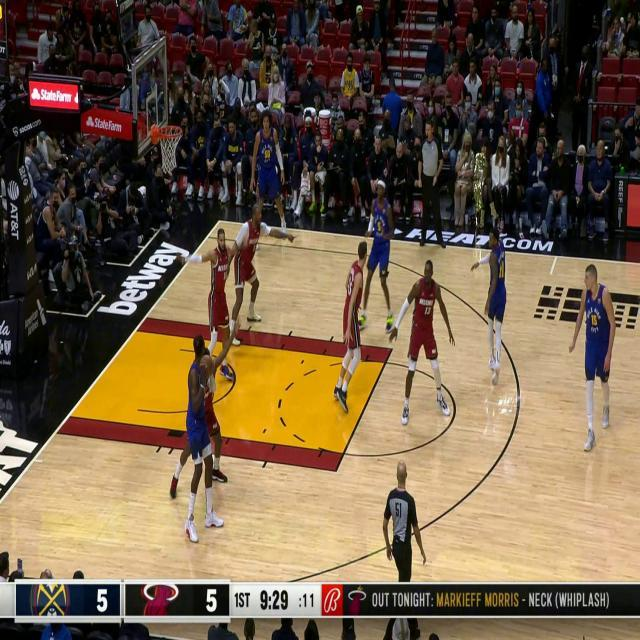rim: (200, 354, 213, 377)
